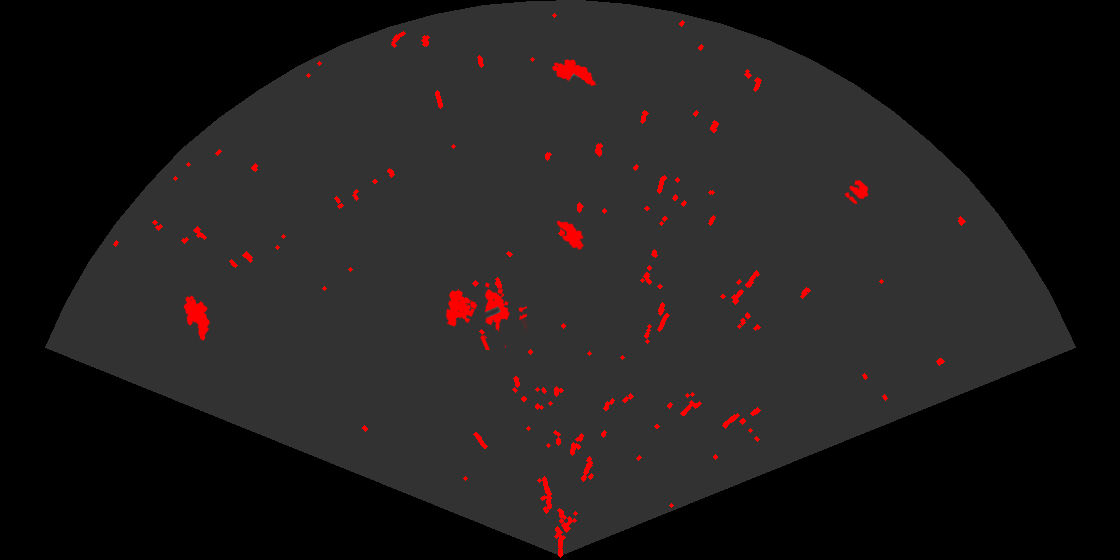AUV: (551, 58, 598, 88), (182, 294, 211, 342), (555, 219, 585, 251)
ball: (843, 178, 870, 206)
cage: (444, 281, 527, 350)
